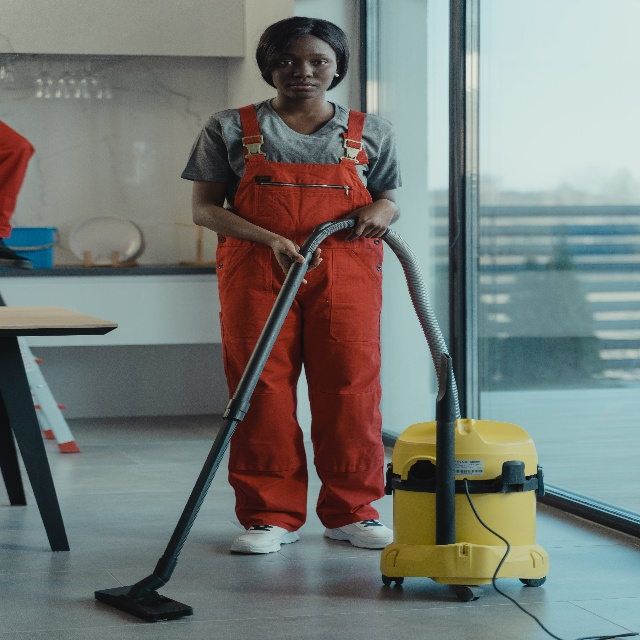Sin_guantes: (270, 232, 323, 285), (344, 199, 395, 242)
